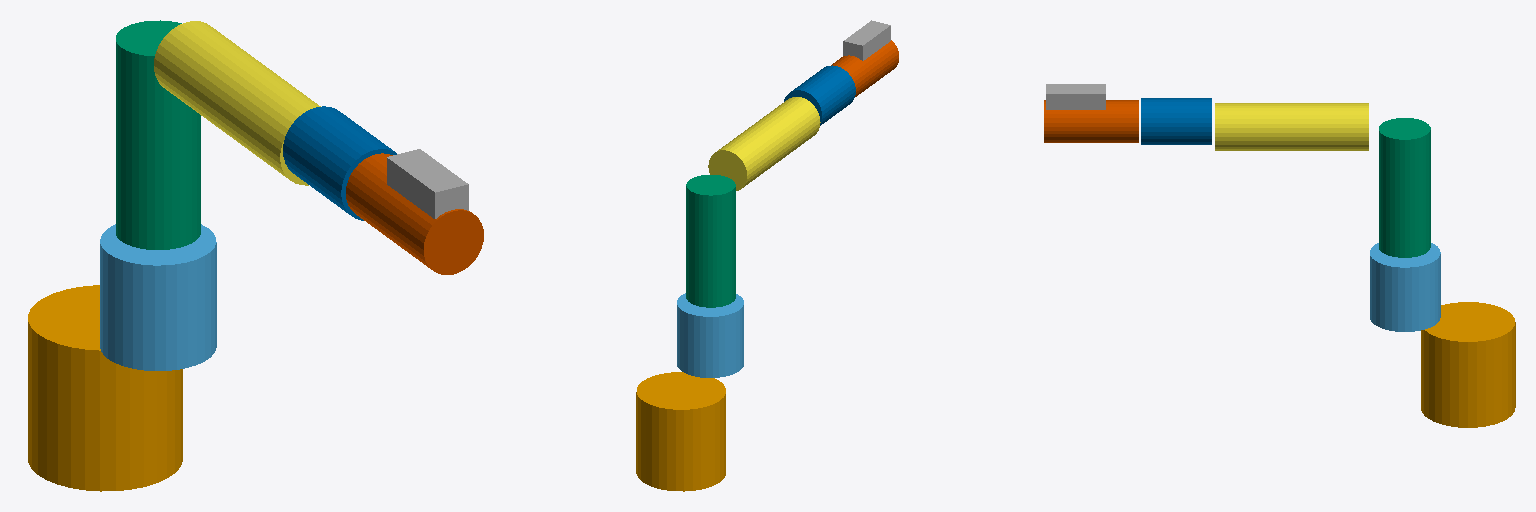
The robot description file, URDF, robot "so101_new_calib":
<?xml version="1.0" encoding="utf-8"?>
<!-- Kinematics-only SO-101 URDF for cuMotion. Joint origins/limits match
     TheRobotStudio so101_new_calib.urdf; meshes replaced by capsules so
     planning does not depend on STL files. -->
<robot name="so101_new_calib">

  <link name="base_link">
    <inertial>
      <origin xyz="0.0137179 -5.19711e-05 0.0334843" rpy="0 0 0"/>
      <mass value="0.147"/>
      <inertia ixx="0.000114686" ixy="0" ixz="0" iyy="0.000136117" iyz="0" izz="0.000130364"/>
    </inertial>
    <visual>
      <origin xyz="0.02 0 0.04" rpy="0 0 0"/>
      <geometry><cylinder radius="0.04" length="0.08"/></geometry>
    </visual>
  </link>

  <link name="shoulder_link">
    <inertial>
      <origin xyz="-0.0307604 -1.66727e-05 -0.0252713" rpy="0 0 0"/>
      <mass value="0.100006"/>
      <inertia ixx="8.3759e-05" ixy="0" ixz="0" iyy="8.10403e-05" iyz="0" izz="2.39783e-05"/>
    </inertial>
    <visual>
      <origin xyz="-0.03 0 -0.02" rpy="0 0 0"/>
      <geometry><cylinder radius="0.03" length="0.06"/></geometry>
    </visual>
  </link>

  <link name="upper_arm_link">
    <inertial>
      <origin xyz="-0.0898471 -0.00838224 0.0184089" rpy="0 0 0"/>
      <mass value="0.103"/>
      <inertia ixx="4.08002e-05" ixy="0" ixz="0" iyy="0.000147318" iyz="0" izz="0.000142487"/>
    </inertial>
    <visual>
      <origin xyz="-0.056 0 0.018" rpy="0 1.5708 0"/>
      <geometry><cylinder radius="0.022" length="0.11"/></geometry>
    </visual>
  </link>

  <link name="lower_arm_link">
    <inertial>
      <origin xyz="-0.0980701 0.00324376 0.0182831" rpy="0 0 0"/>
      <mass value="0.104"/>
      <inertia ixx="2.87438e-05" ixy="0" ixz="0" iyy="0.000159844" iyz="0" izz="0.00014529"/>
    </inertial>
    <visual>
      <origin xyz="-0.067 0 0.018" rpy="0 1.5708 0"/>
      <geometry><cylinder radius="0.02" length="0.13"/></geometry>
    </visual>
  </link>

  <link name="wrist_link">
    <inertial>
      <origin xyz="-0.000103312 -0.0386143 0.0281156" rpy="0 0 0"/>
      <mass value="0.079"/>
      <inertia ixx="3.68265e-05" ixy="0" ixz="0" iyy="2.74474e-05" iyz="0" izz="1.89434e-05"/>
    </inertial>
    <visual>
      <origin xyz="0 -0.03 0.018" rpy="1.5708 0 0"/>
      <geometry><cylinder radius="0.02" length="0.06"/></geometry>
    </visual>
  </link>

  <link name="gripper_link">
    <inertial>
      <origin xyz="0.000213627 0.000245138 -0.025187" rpy="0 0 0"/>
      <mass value="0.087"/>
      <inertia ixx="2.42839e-05" ixy="0" ixz="0" iyy="4.33735e-05" iyz="0" izz="3.77229e-05"/>
    </inertial>
    <visual>
      <origin xyz="0 0 -0.04" rpy="0 0 0"/>
      <geometry><cylinder radius="0.018" length="0.08"/></geometry>
    </visual>
  </link>

  <link name="gripper_frame_link">
    <inertial>
      <origin xyz="0 0 0" rpy="0 0 0"/>
      <mass value="1e-6"/>
      <inertia ixx="1e-9" ixy="0" ixz="0" iyy="1e-9" iyz="0" izz="1e-9"/>
    </inertial>
  </link>

  <link name="moving_jaw_so101_v1_link">
    <inertial>
      <origin xyz="-0.00157495 -0.0300244 0.0192755" rpy="0 0 0"/>
      <mass value="0.012"/>
      <inertia ixx="6.61427e-06" ixy="0" ixz="0" iyy="1.89032e-06" iyz="0" izz="5.28738e-06"/>
    </inertial>
    <visual>
      <origin xyz="0 -0.03 0.019" rpy="0 0 0"/>
      <geometry><box size="0.02 0.05 0.02"/></geometry>
    </visual>
  </link>

  <joint name="shoulder_pan" type="revolute">
    <origin xyz="0.0207909 -0.0230745 0.0948817" rpy="3.14159 0 1.5708"/>
    <parent link="base_link"/>
    <child link="shoulder_link"/>
    <axis xyz="0 0 1"/>
    <limit effort="10" velocity="10" lower="-1.91986" upper="1.91986"/>
  </joint>

  <joint name="shoulder_lift" type="revolute">
    <origin xyz="-0.0303992 -0.0182778 -0.0542" rpy="-1.5708 -1.5708 0"/>
    <parent link="shoulder_link"/>
    <child link="upper_arm_link"/>
    <axis xyz="0 0 1"/>
    <limit effort="10" velocity="10" lower="-1.74533" upper="1.74533"/>
  </joint>

  <joint name="elbow_flex" type="revolute">
    <origin xyz="-0.11257 -0.028 0" rpy="0 0 1.5708"/>
    <parent link="upper_arm_link"/>
    <child link="lower_arm_link"/>
    <axis xyz="0 0 1"/>
    <limit effort="10" velocity="10" lower="-1.69" upper="1.69"/>
  </joint>

  <joint name="wrist_flex" type="revolute">
    <origin xyz="-0.1349 0.0052 0" rpy="0 0 -1.5708"/>
    <parent link="lower_arm_link"/>
    <child link="wrist_link"/>
    <axis xyz="0 0 1"/>
    <limit effort="10" velocity="10" lower="-1.65806" upper="1.65806"/>
  </joint>

  <joint name="wrist_roll" type="revolute">
    <origin xyz="0 -0.0611 0.0181" rpy="1.5708 0 3.14159"/>
    <parent link="wrist_link"/>
    <child link="gripper_link"/>
    <axis xyz="0 0 1"/>
    <limit effort="10" velocity="10" lower="-2.74385" upper="2.84121"/>
  </joint>

  <joint name="gripper_frame_joint" type="fixed">
    <origin xyz="-0.0079 0 -0.0981274" rpy="0 3.14159 0"/>
    <parent link="gripper_link"/>
    <child link="gripper_frame_link"/>
  </joint>

  <joint name="gripper" type="revolute">
    <origin xyz="0.0202 0.0188 -0.0234" rpy="1.5708 0 0"/>
    <parent link="gripper_link"/>
    <child link="moving_jaw_so101_v1_link"/>
    <axis xyz="0 0 1"/>
    <limit effort="10" velocity="10" lower="-0.174533" upper="1.74533"/>
  </joint>

</robot>

--- Facts derived from the render (not from the file) ---
Views: 3 orthographic renders of the robot side by side, from view 1: azimuth 30°, elevation 25°; view 2: azimuth 150°, elevation 25°; view 3: azimuth 270°, elevation 25°.
Robot: so101_new_calib — 8 links, 7 joints (6 revolute, 1 fixed); root link base_link; default pose: all joints at 0.
Visible links, largest first — view 1: base_link, upper_arm_link, shoulder_link, lower_arm_link, gripper_link, wrist_link, moving_jaw_so101_v1_link; view 2: base_link, upper_arm_link, lower_arm_link, shoulder_link, wrist_link, gripper_link, moving_jaw_so101_v1_link; view 3: base_link, lower_arm_link, upper_arm_link, shoulder_link, gripper_link, wrist_link, moving_jaw_so101_v1_link.
Boxes of the visible links, x1,y1,x2,y2 form: base_link: (28,285,182,491); upper_arm_link: (116,20,200,249); shoulder_link: (100,224,216,370); lower_arm_link: (154,21,320,185); gripper_link: (346,153,483,274); wrist_link: (283,106,396,220); moving_jaw_so101_v1_link: (387,149,468,218); base_link: (636,372,725,491); upper_arm_link: (686,175,735,307); lower_arm_link: (708,97,820,190); shoulder_link: (677,293,743,377); wrist_link: (784,65,855,125); gripper_link: (831,40,898,96); moving_jaw_so101_v1_link: (843,20,890,60); base_link: (1421,302,1515,427); lower_arm_link: (1215,103,1368,150); upper_arm_link: (1379,118,1430,257); shoulder_link: (1370,243,1440,331); gripper_link: (1044,100,1138,142); wrist_link: (1141,98,1211,144); moving_jaw_so101_v1_link: (1046,84,1105,109).
Bounding box of the posed robot: 0.08 × 0.3975 × 0.2971 m (x, y, z).
Geometry: primitives only (box / cylinder / sphere), no mesh files.
